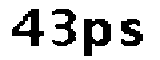3: (47, 8, 75, 52)
4: (7, 6, 47, 52)
p: (79, 14, 113, 60)
s: (117, 17, 145, 50)
